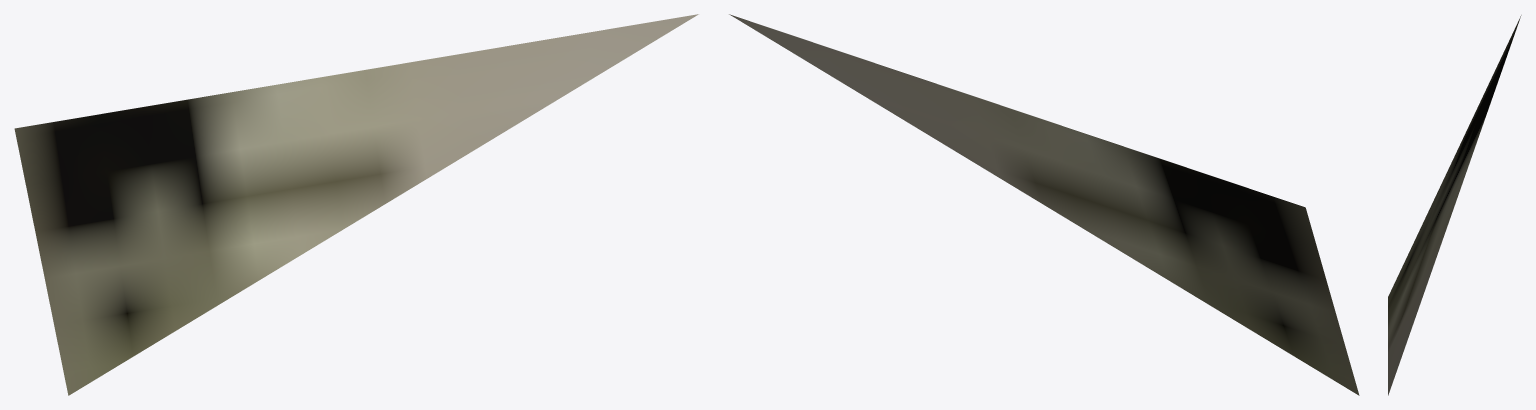
3 views of the same model, side by side, from view 1: azimuth 30°, elevation 25°; view 2: azimuth 150°, elevation 25°; view 3: azimuth 270°, elevation 25° (orthographic). The views are drawn at different scales.
Bounding box in the file's own units: 0.0976 × 0.0337 × 0.0144.
Materials: 1 (1 with a texture image).
